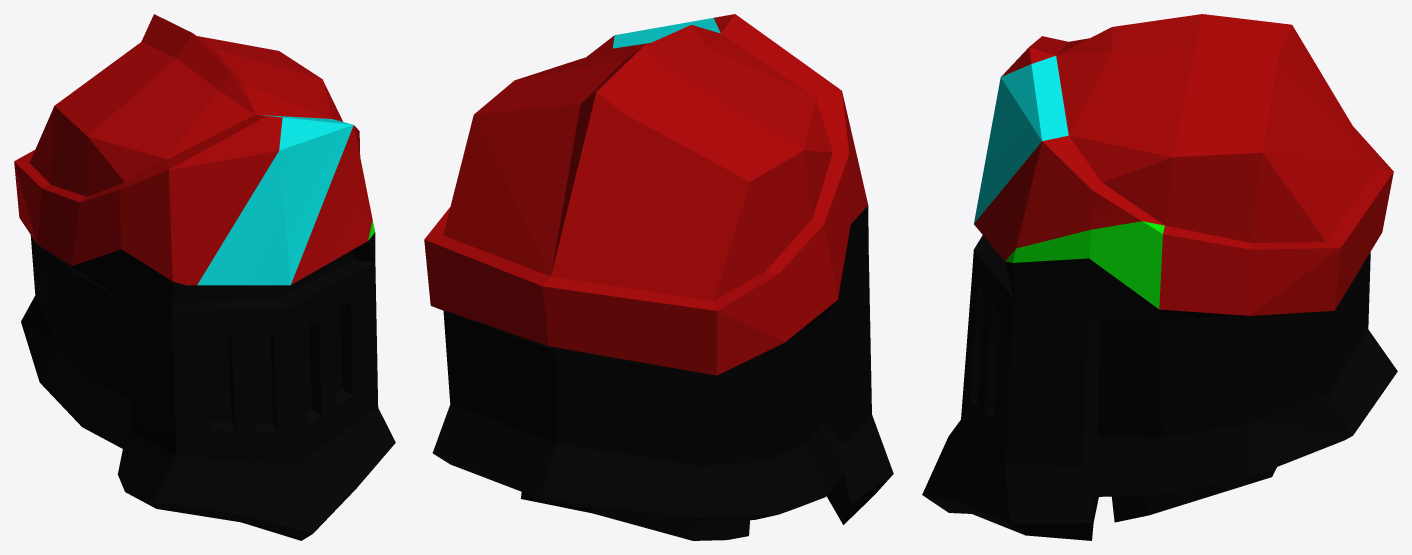
File: Chr_Head_No_Elements_Male_Static_12.fbx
3 views of the same model, side by side, from view 1: azimuth 30°, elevation 25°; view 2: azimuth 150°, elevation 25°; view 3: azimuth 270°, elevation 25° (orthographic). The views are drawn at different scales.
Parts seen in each view (by area): view 1: Chr_Head_No_Elements_Male_12; view 2: Chr_Head_No_Elements_Male_12; view 3: Chr_Head_No_Elements_Male_12.
Boxes of the visible parts, left/top/right/bottom form: Chr_Head_No_Elements_Male_12: left=14, top=14, right=395, bottom=540; Chr_Head_No_Elements_Male_12: left=424, top=14, right=893, bottom=540; Chr_Head_No_Elements_Male_12: left=922, top=14, right=1397, bottom=540.
Bounding box in the file's own units: 27.66 × 40.63 × 35.12.
